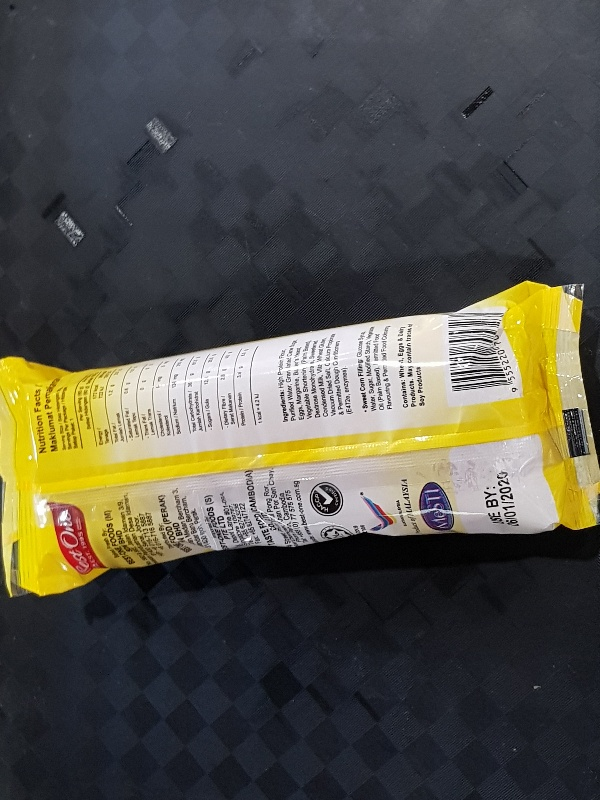Tinges Roll Sweet Corn: (2, 278, 600, 599)
